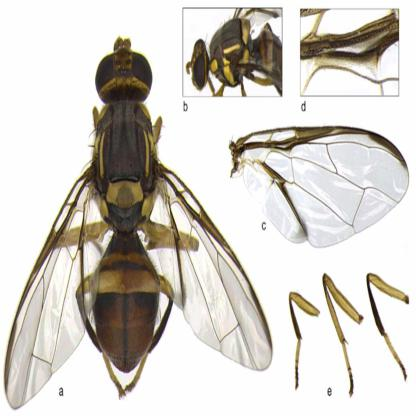fruit fly: (2, 38, 274, 408)
